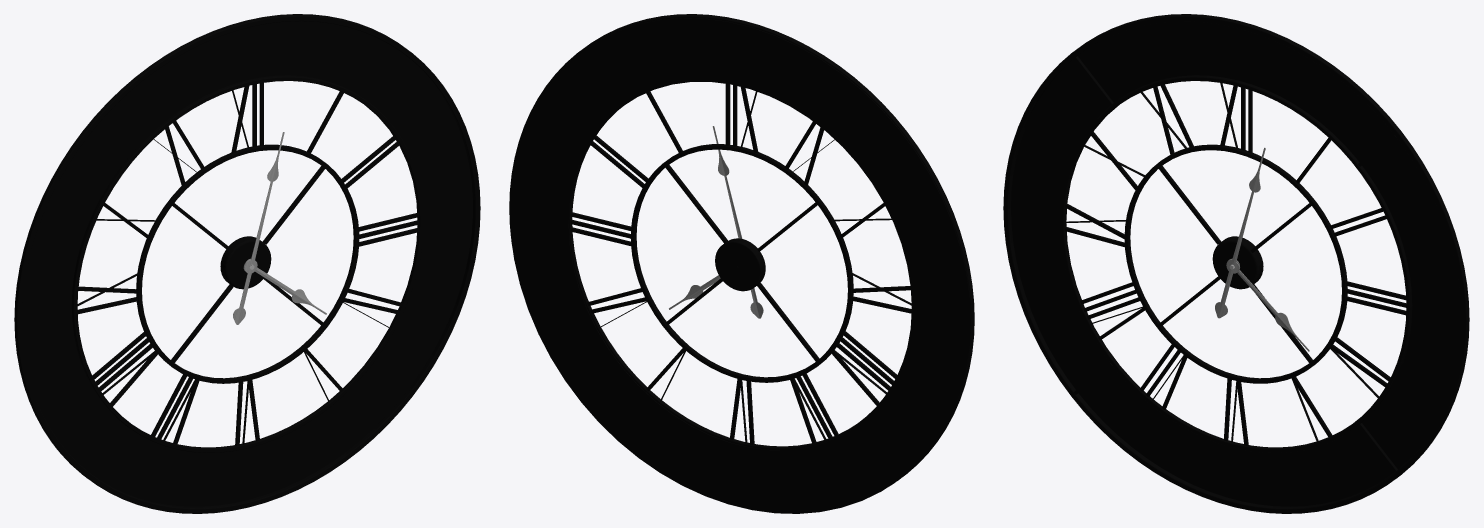
File: Pendule.obj
The picture shows the model from 3 angles, left to right: view 1: azimuth 30°, elevation 25°; view 2: azimuth 150°, elevation 25°; view 3: azimuth 330°, elevation 25°; orthographic projection.
Parts seen in each view (by area): view 1: default_1_5, default_1_1, default_1_4; view 2: default_1_5, default_1_1, default_1_4; view 3: default_1_5, default_1_1, default_1_4, default_1_3.
Boxes of the visible parts, <box> form: default_1_5: <box>22,21,472,506</box>; default_1_1: <box>14,14,480,513</box>; default_1_4: <box>233,132,284,324</box>; default_1_5: <box>509,18,971,513</box>; default_1_1: <box>509,14,974,484</box>; default_1_4: <box>712,126,763,318</box>; default_1_5: <box>1011,21,1461,506</box>; default_1_1: <box>1003,14,1469,513</box>; default_1_4: <box>1215,147,1265,318</box>; default_1_3: <box>1228,258,1309,351</box>.
Bounding box in the file's own units: 90 × 90 × 3.07.
